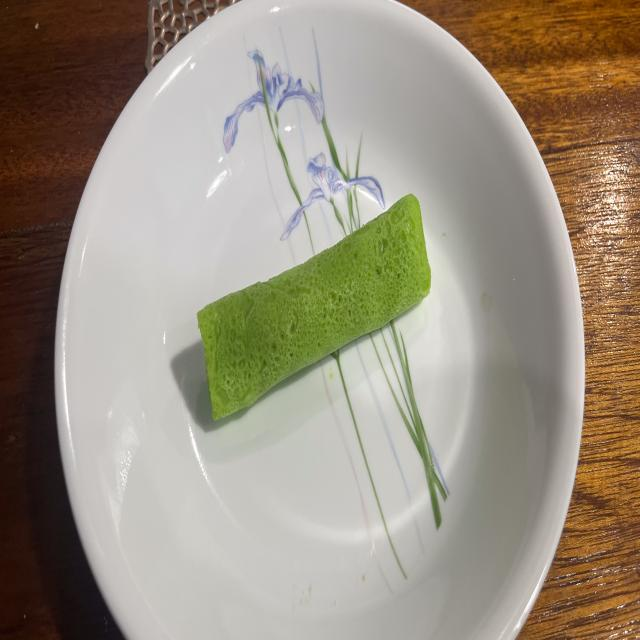Kuih-Ketayap: (198, 193, 431, 420)
